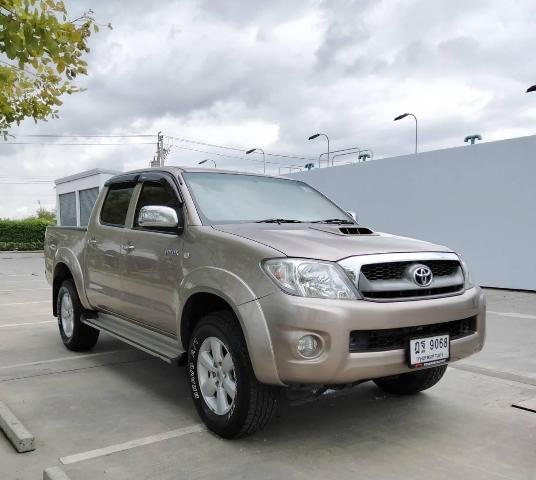pickup-truck: (35, 150, 522, 449)
